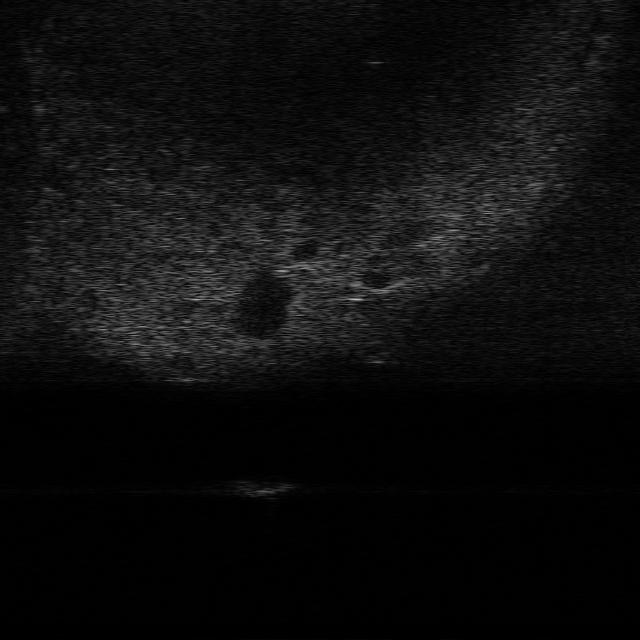ball: (358, 336, 390, 366)
cube: (229, 476, 300, 499)
